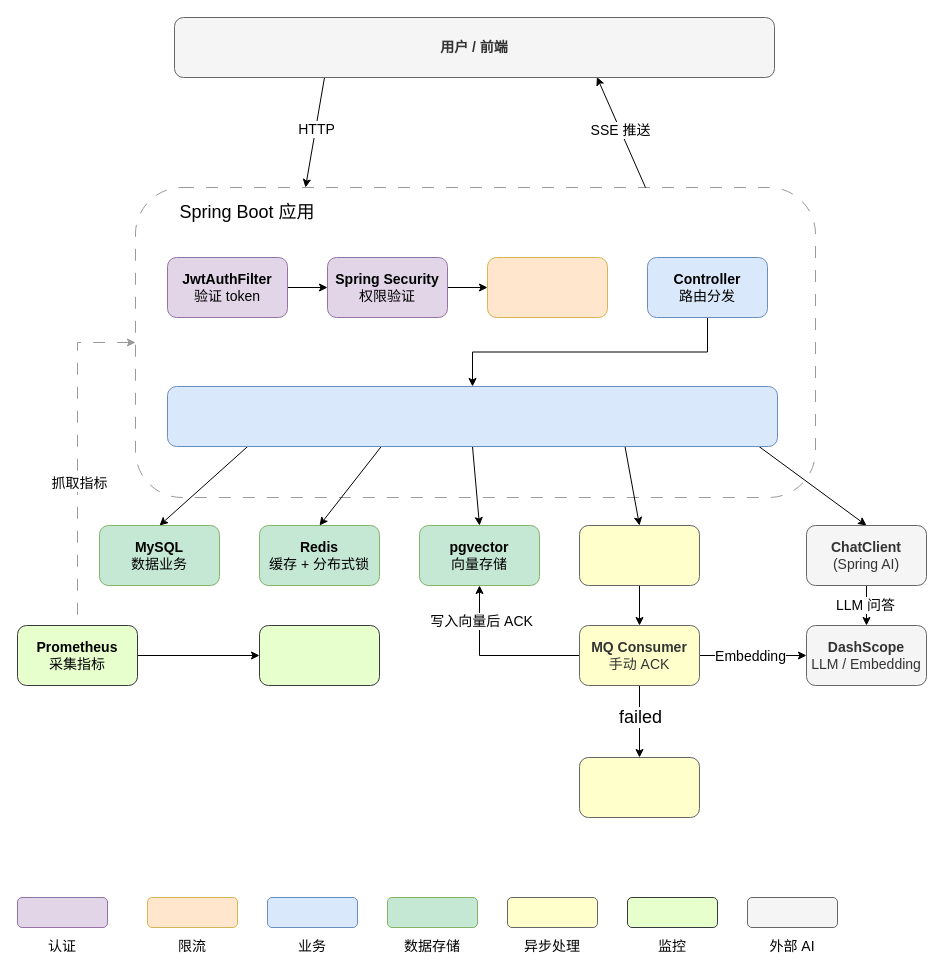
This 944x979 diagram has some shape labels left out. The centre of each missing label's shape, as x and y in pixels:
Grafana 可视化: (x=319, y=655)
MQ 死信队列 log error: (x=639, y=787)
RabbitMQ 异步向量化: (x=639, y=555)
RateLimitAspect 令牌桶限流: (x=547, y=287)
Service KnowledgeBaseService / ChatService / DocumentService: (x=472, y=416)
